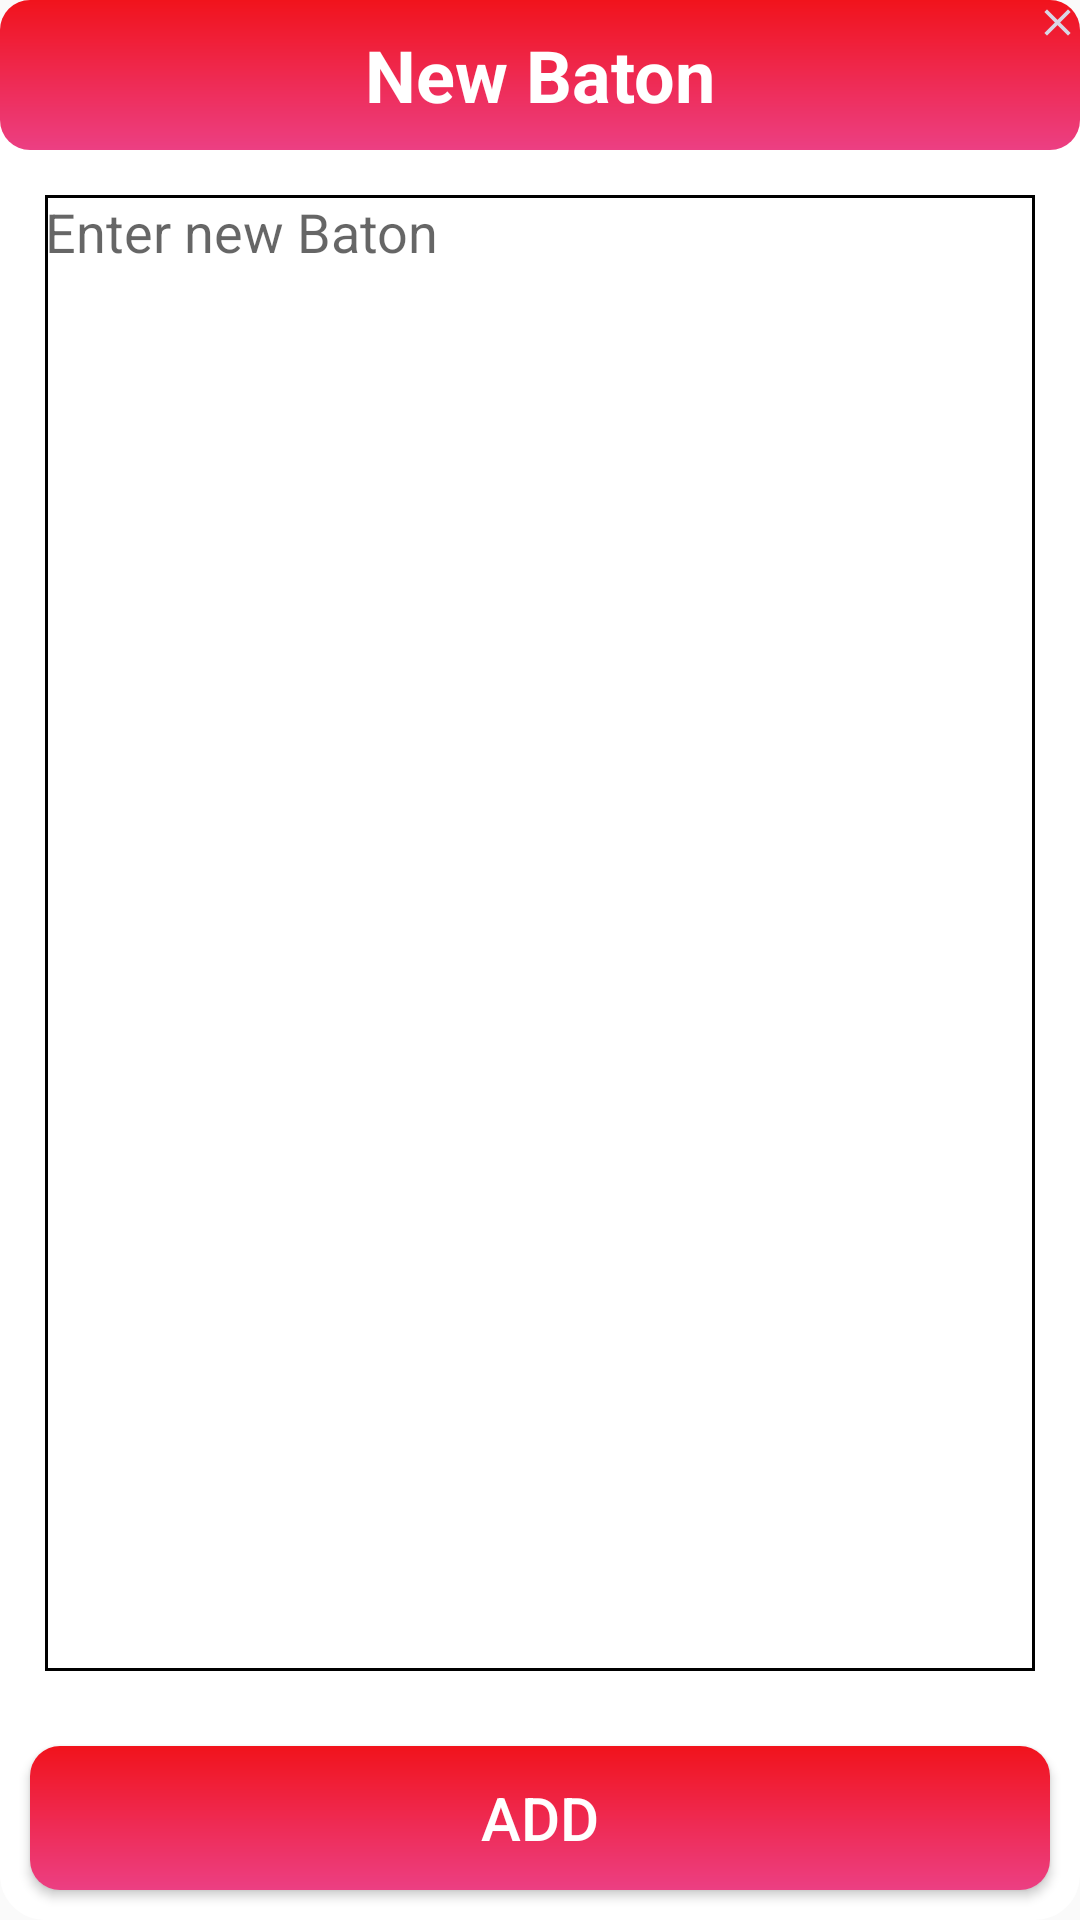

Icon bounding boxes for this 1080x1920 phone screenshot, format detection(x1, y1, x2, y2):
close: detection(1035, 0, 1080, 36)
